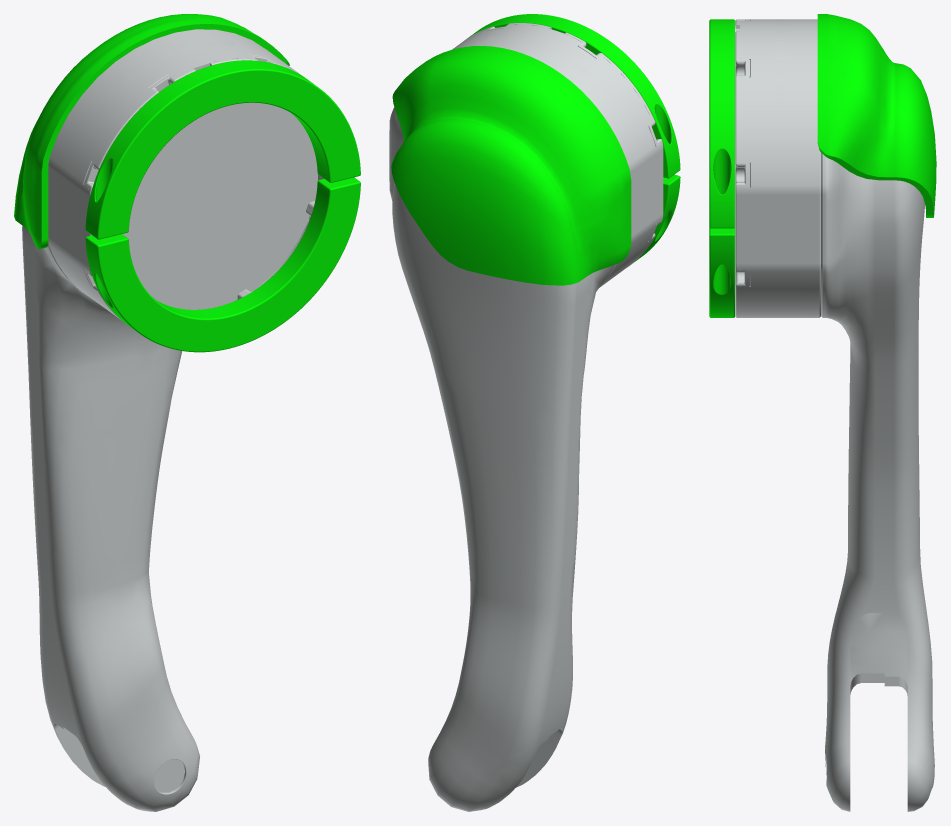
Rendered from thigh copy.dae.
3 renders of one model, left to right at view 1: azimuth 30°, elevation 25°; view 2: azimuth 150°, elevation 25°; view 3: azimuth 270°, elevation 25°, orthographic. The views are drawn at different scales.
Visible parts, largest first — view 1: thigh.FL0815; view 2: thigh.FL0815; view 3: thigh.FL0815.
Part boxes in pixels (x1,y1,x2,y2): thigh.FL0815: [14, 14, 360, 811]; thigh.FL0815: [389, 14, 680, 811]; thigh.FL0815: [709, 14, 936, 811].
Bounding box in the file's own units: 0.0969 × 0.0734 × 0.2779.
